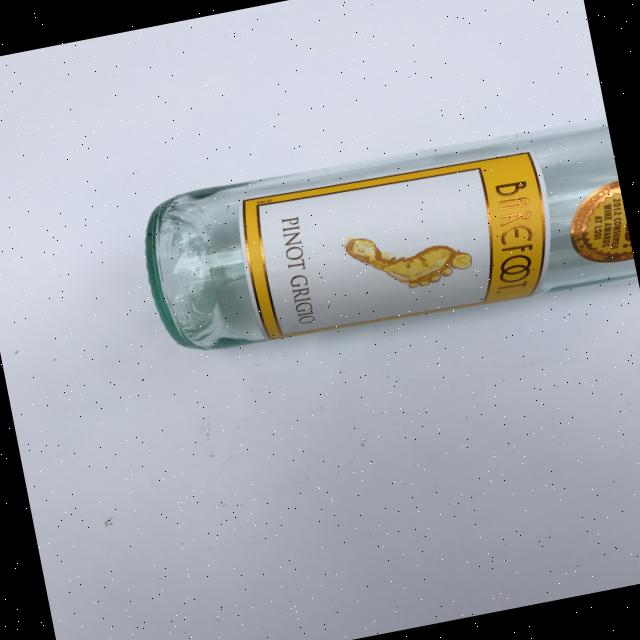glass: (133, 110, 637, 368)
